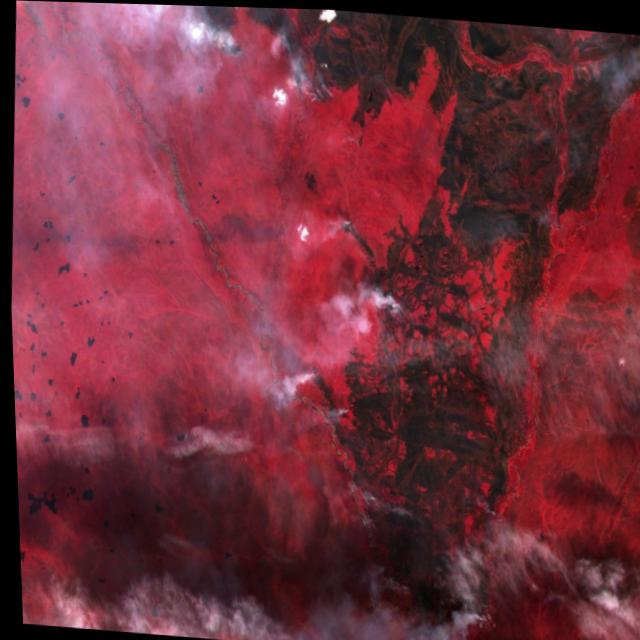fire: (191, 4, 346, 122), (367, 550, 504, 640), (322, 200, 415, 328), (292, 346, 358, 433)
